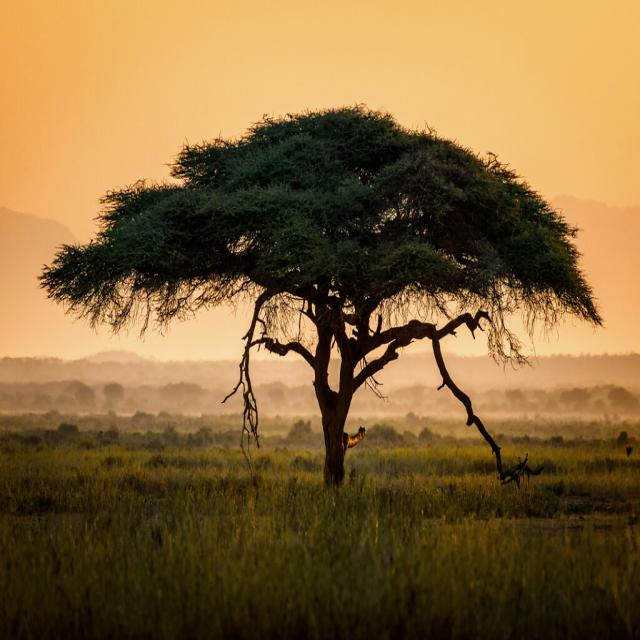Acacia: (47, 61, 597, 478)
